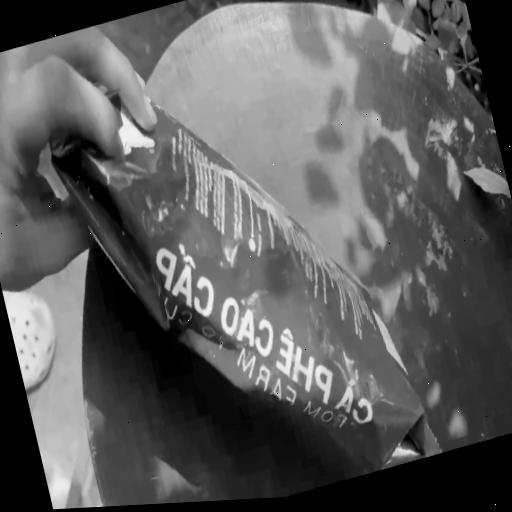cafe_hat: (51, 95, 440, 471), (52, 97, 440, 473), (224, 204, 512, 500)
